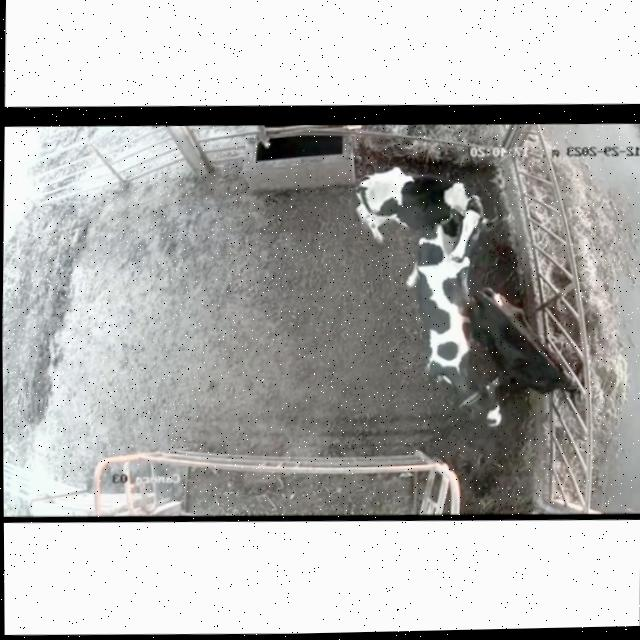propping: (424, 196, 499, 280)
